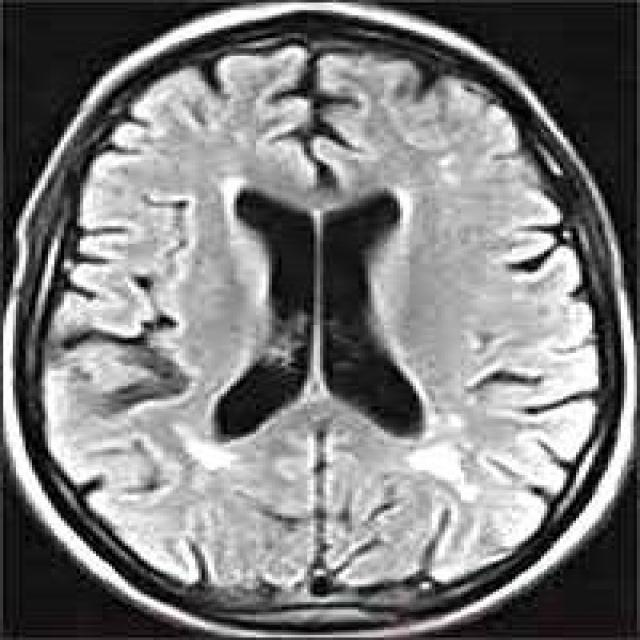notumor: (10, 8, 637, 635)
